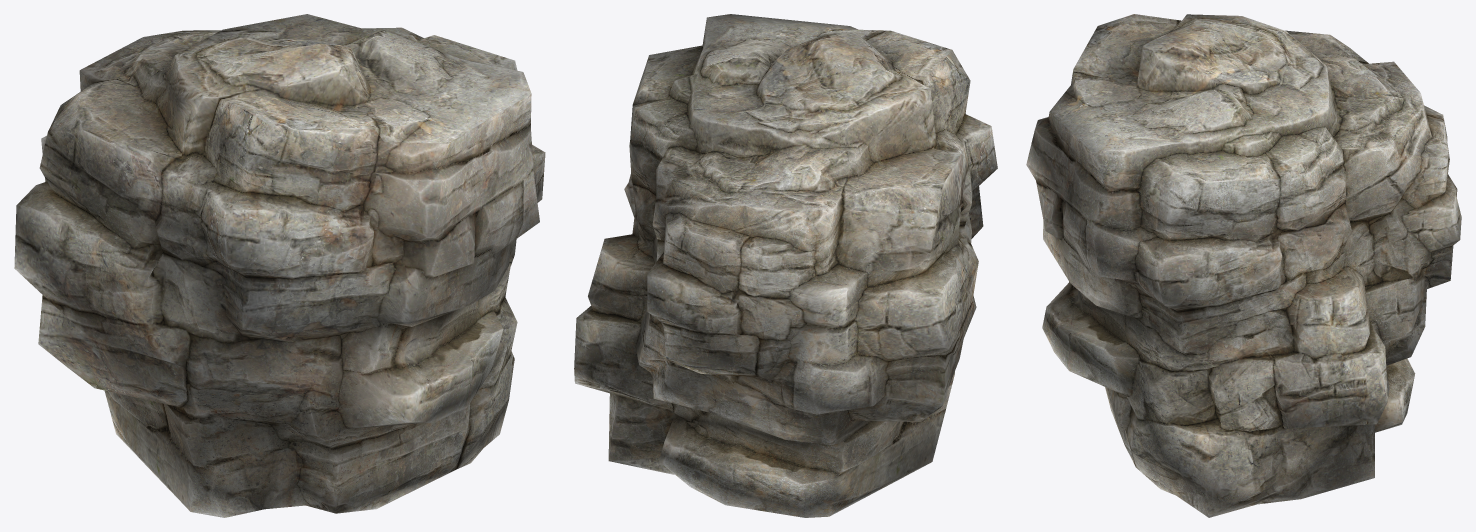
Rendered from Cliff4.fbx.
The picture shows the model from 3 angles, left to right: view 1: azimuth 30°, elevation 25°; view 2: azimuth 150°, elevation 25°; view 3: azimuth 270°, elevation 25°; orthographic projection. The views are drawn at different scales.
Visible parts, largest first — view 1: Cliff4_800_tris_Group57576; view 2: Cliff4_800_tris_Group57576; view 3: Cliff4_800_tris_Group57576.
Boxes of the visible parts, <box> form: Cliff4_800_tris_Group57576: <box>14,14,545,517</box>; Cliff4_800_tris_Group57576: <box>574,14,997,517</box>; Cliff4_800_tris_Group57576: <box>1026,14,1461,517</box>.
Size of the model in its own units: 7.81 by 7.68 by 7.74.
Materials: 1 (1 with a texture image).
